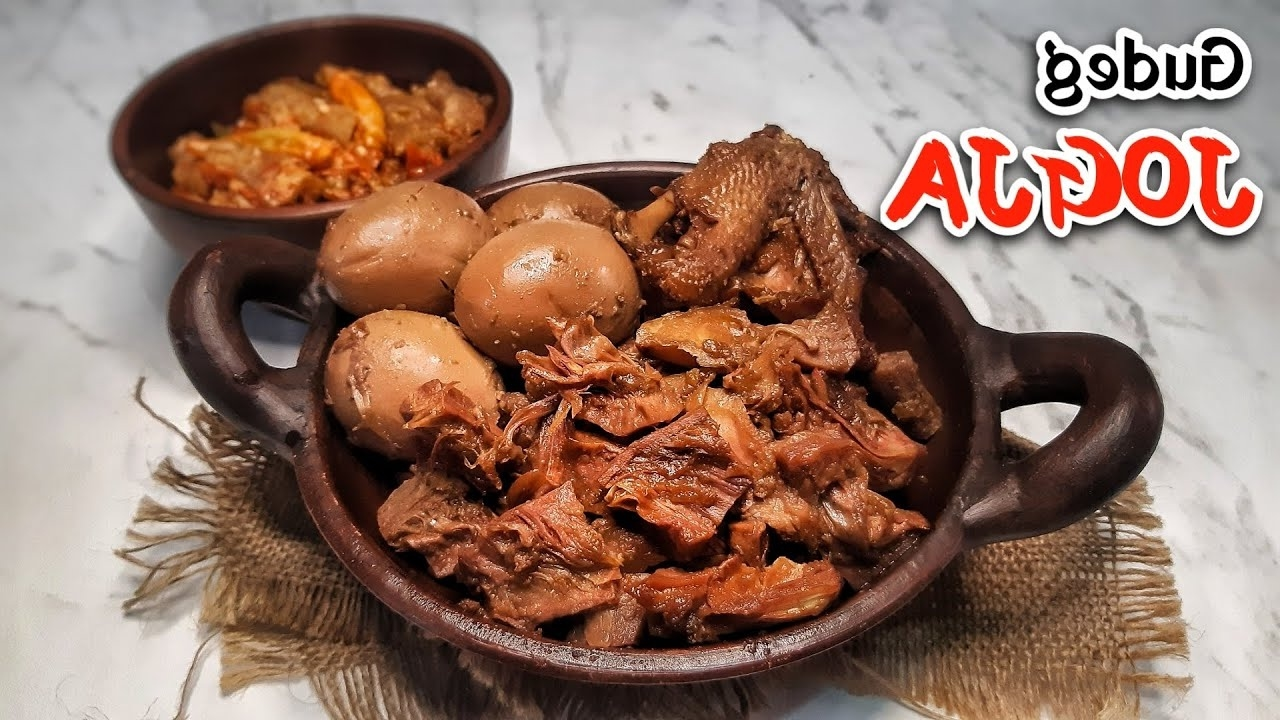gudeg: (317, 123, 943, 653)
